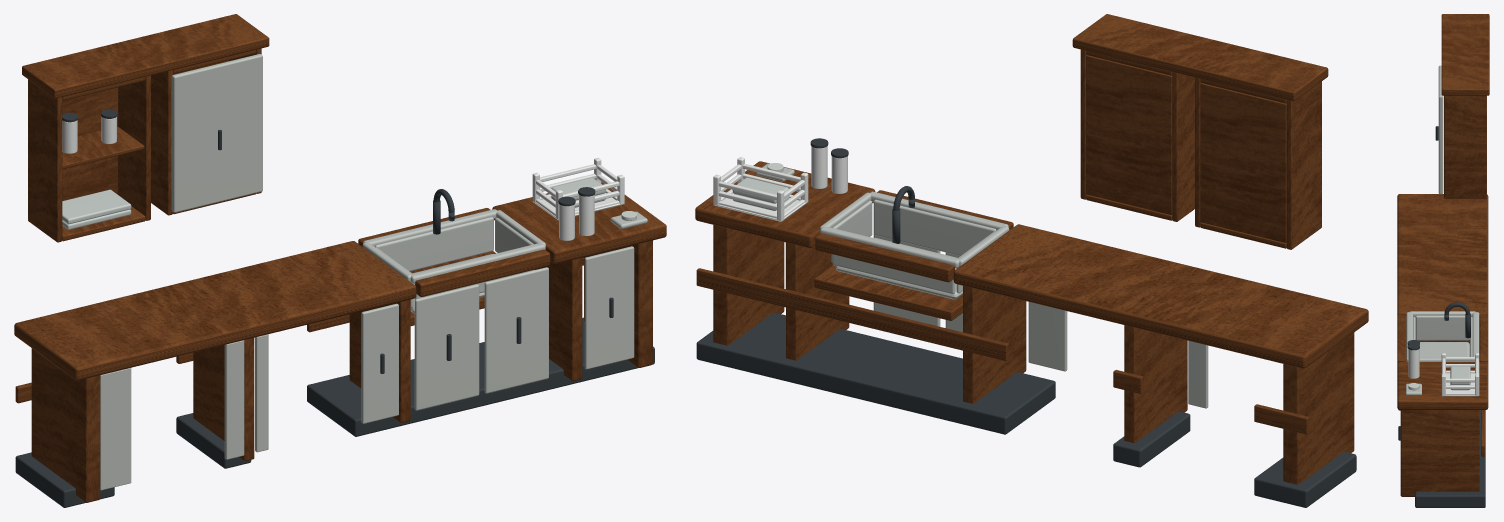
Rendered from c17_laundry_service_original.glb.
The picture shows the model from 3 angles, left to right: view 1: azimuth 30°, elevation 25°; view 2: azimuth 150°, elevation 25°; view 3: azimuth 270°, elevation 25°; orthographic projection. The views are drawn at different scales.
Parts seen in each view (by area): view 1: C17_Runtime_walnut_cabinetry, C17_Runtime_warm_white_cabinetry, C17_Runtime_graphite_metal, C17_Runtime_sink_ceramic, C17_Runtime_satin_warm_white, C17_Runtime_folded_cotton; view 2: C17_Runtime_walnut_cabinetry, C17_Runtime_graphite_metal, C17_Runtime_sink_ceramic, C17_Runtime_warm_white_cabinetry, C17_Runtime_satin_warm_white, C17_Runtime_folded_cotton; view 3: C17_Runtime_walnut_cabinetry, C17_Runtime_sink_ceramic, C17_Runtime_graphite_metal, C17_Runtime_satin_warm_white, C17_Runtime_warm_white_cabinetry, C17_Runtime_folded_cotton.
Boxes of the visible parts, x1,y1,x2,y2 form: C17_Runtime_walnut_cabinetry: [14, 14, 666, 502]; C17_Runtime_warm_white_cabinetry: [100, 54, 634, 490]; C17_Runtime_graphite_metal: [15, 109, 654, 507]; C17_Runtime_sink_ceramic: [362, 209, 647, 313]; C17_Runtime_satin_warm_white: [62, 117, 624, 240]; C17_Runtime_folded_cotton: [62, 177, 605, 229]; C17_Runtime_walnut_cabinetry: [695, 14, 1368, 484]; C17_Runtime_graphite_metal: [696, 138, 1356, 507]; C17_Runtime_sink_ceramic: [756, 163, 1009, 299]; C17_Runtime_warm_white_cabinetry: [785, 234, 1208, 408]; C17_Runtime_satin_warm_white: [713, 146, 847, 221]; C17_Runtime_folded_cotton: [732, 177, 788, 210]; C17_Runtime_walnut_cabinetry: [1397, 14, 1489, 496]; C17_Runtime_sink_ceramic: [1405, 311, 1479, 395]; C17_Runtime_graphite_metal: [1398, 126, 1485, 507]; C17_Runtime_satin_warm_white: [1408, 349, 1479, 396]; C17_Runtime_warm_white_cabinetry: [1438, 65, 1443, 194]; C17_Runtime_folded_cotton: [1450, 366, 1470, 390].
Bounding box in the file's own units: 3.9 × 2.54 × 0.73.
7 materials, 1 textured.
